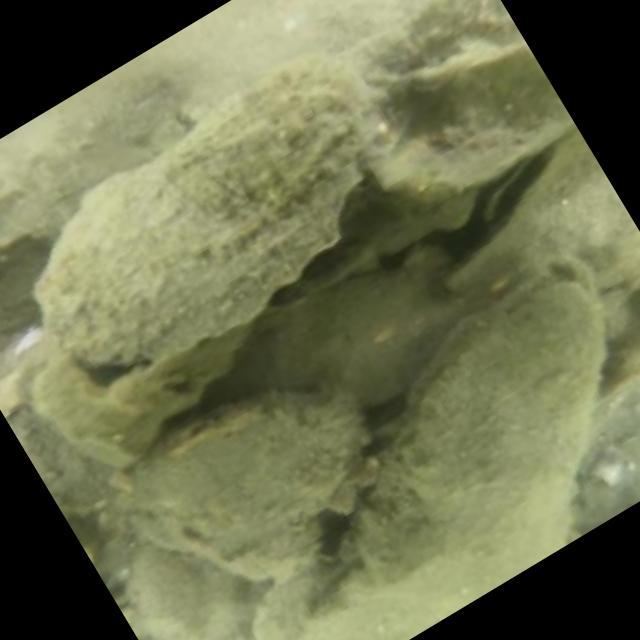Oyster- Indeterminate: (0, 25, 435, 420), (212, 232, 481, 464)
Oyster-Closed: (111, 332, 402, 620)
Oyster-Open: (474, 143, 562, 235)
